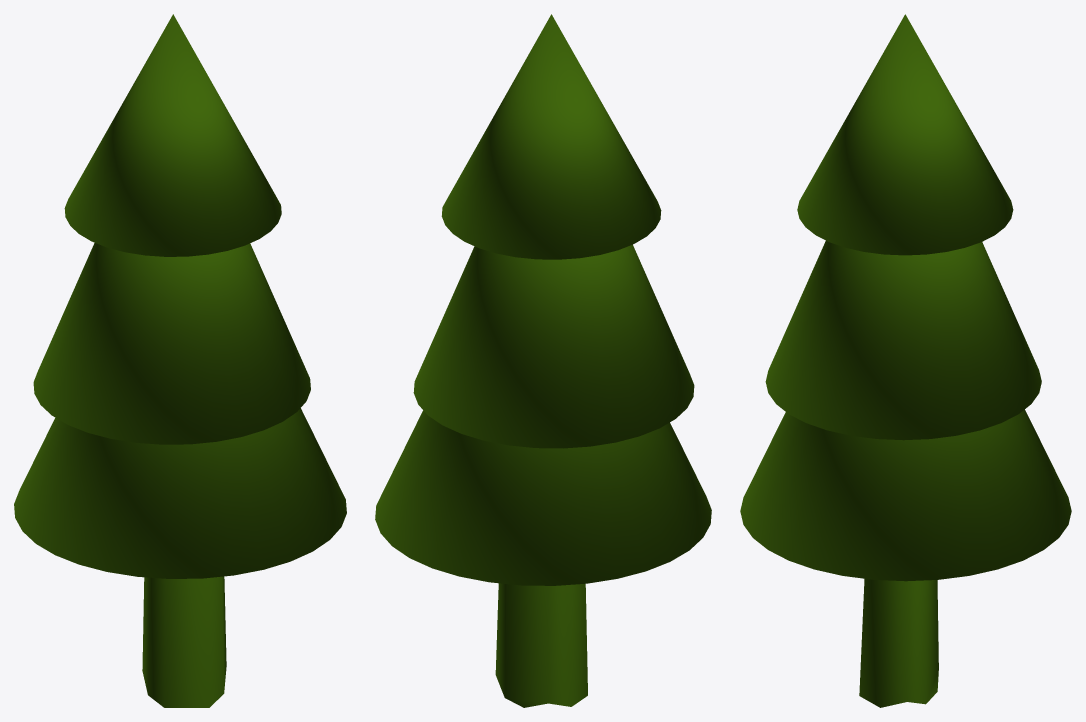
The model's file is tree.fbx.
3 views of the same model, side by side, from view 1: azimuth 30°, elevation 25°; view 2: azimuth 150°, elevation 25°; view 3: azimuth 270°, elevation 25° (orthographic).
Parts seen in each view (by area): view 1: tree; view 2: tree; view 3: tree.
Part boxes in pixels (x1,y1,x2,y2): tree: (14, 14, 346, 707); tree: (375, 14, 711, 707); tree: (740, 14, 1071, 707).
Bounding box in the file's own units: 274 × 616 × 274.
